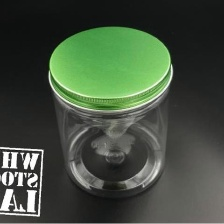plastic_box: (42, 20, 180, 207)
